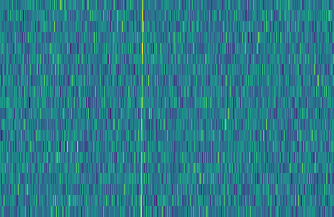signal: (136, 0, 146, 217)
